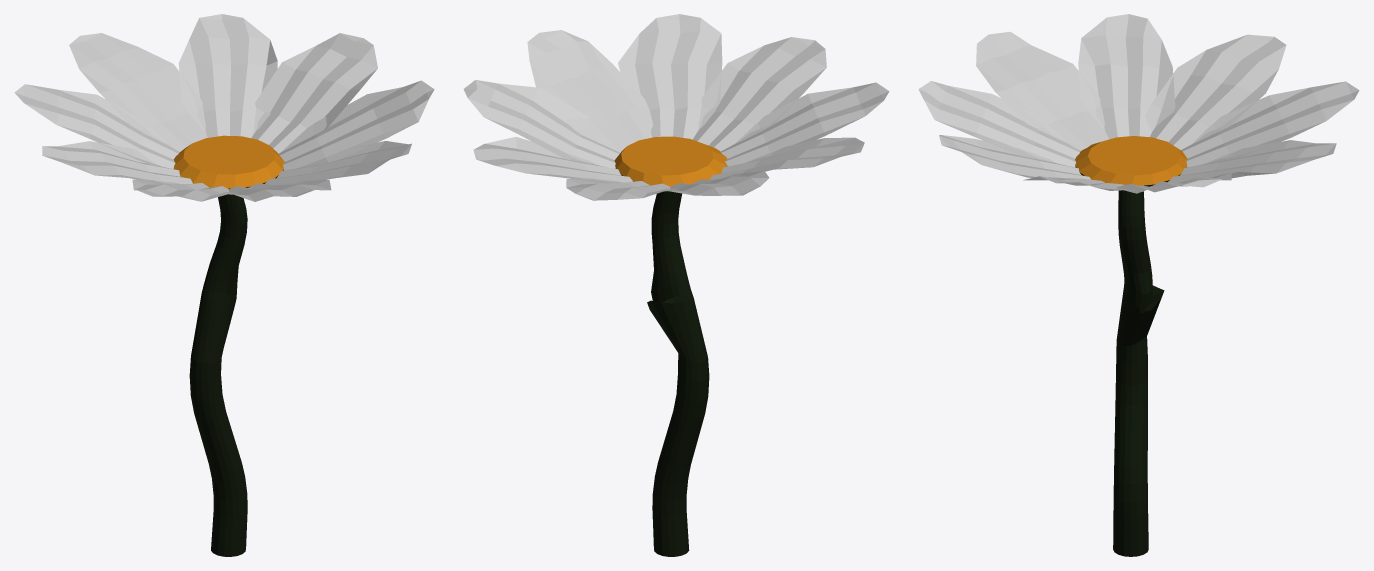
3 renders of one model, left to right at view 1: azimuth 30°, elevation 25°; view 2: azimuth 150°, elevation 25°; view 3: azimuth 270°, elevation 25°, orthographic.
Visible parts, largest first — view 1: Flower, Stem; view 2: Flower, Stem; view 3: Flower, Stem.
Part boxes in pixels (x1,y1,x2,y2): Flower: [14, 14, 434, 201]; Stem: [173, 135, 284, 556]; Flower: [463, 14, 889, 200]; Stem: [614, 136, 727, 556]; Flower: [918, 14, 1359, 193]; Stem: [1075, 136, 1187, 556].
Bounding box in the file's own units: 7.17 × 8.53 × 7.59.
